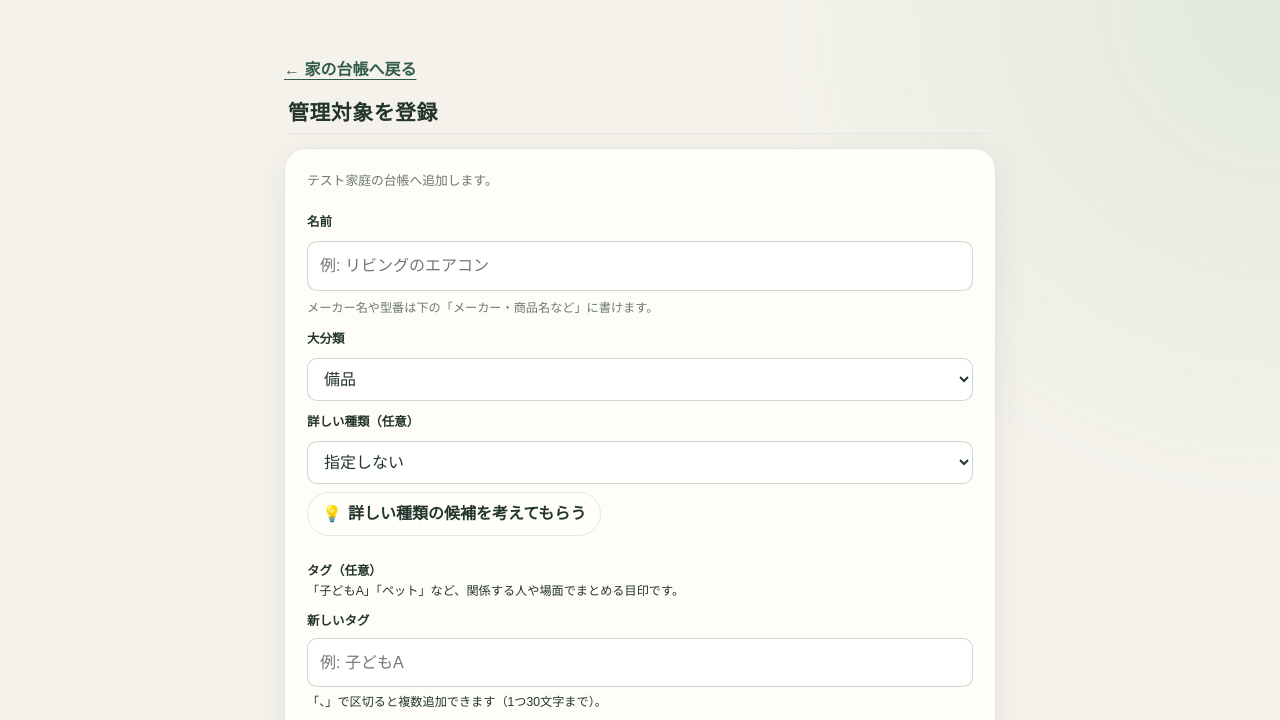
it: 登録・編集の自由入力(詳しい種類)候補(Issue #288) › 使用中の自由入力がまだない大分類では、候補欄を出さずに案内だけ表示する
Select "その他（自由入力）" in the dropdown labelled "詳しい種類（任意）" at point(640, 463), box [307,441,973,484]
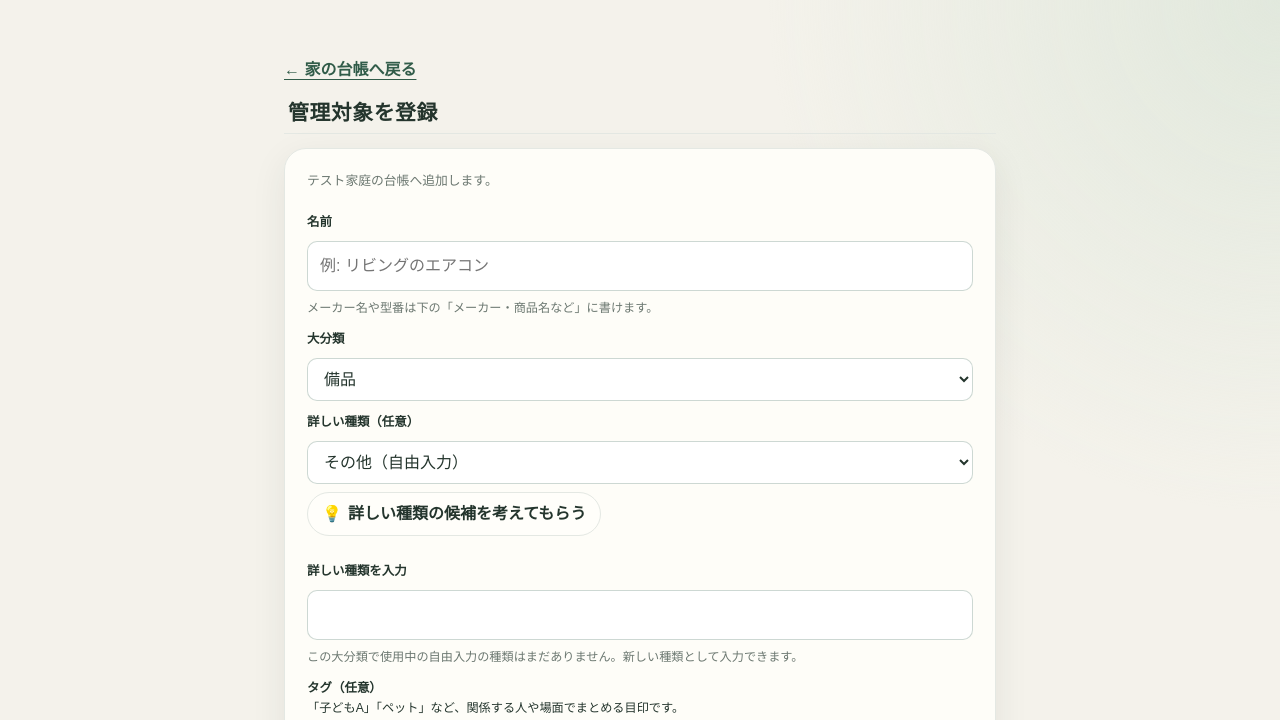
Expected: the text "この大分類で使用中の自由入力の種類はまだありません。新しい種類として入力できます。" is shown, [307,650,804,664]
Expected: the field labelled "詳しい種類を入力" is empty, [307,590,973,640]
